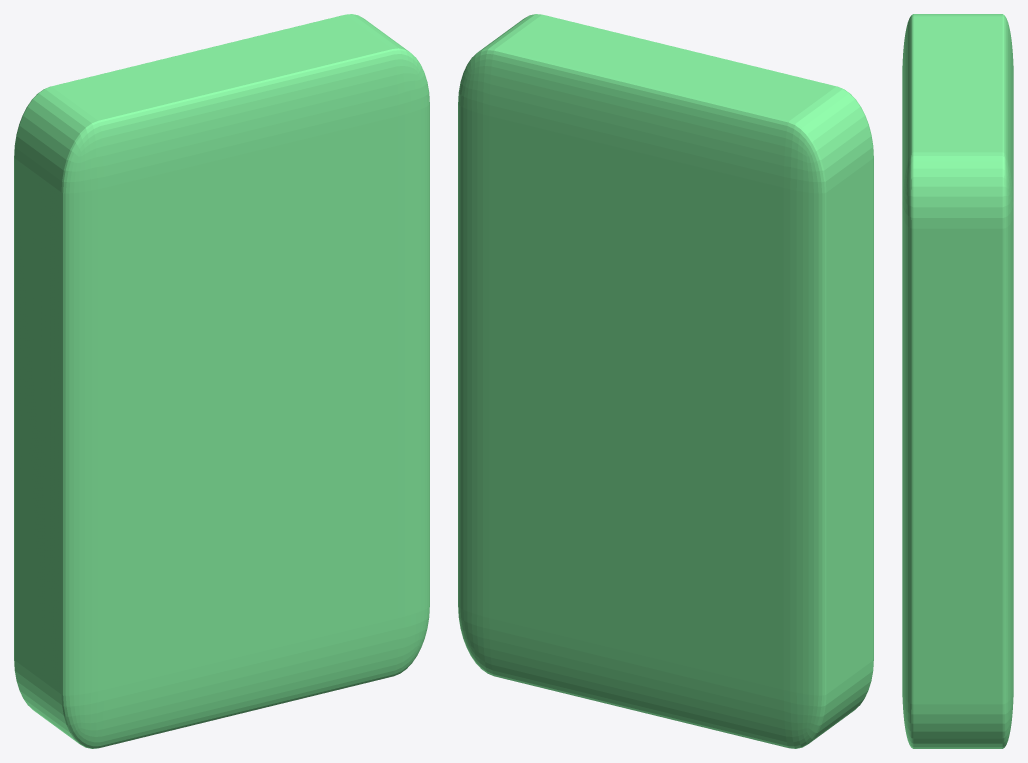
Rendered from round-square.glb.
3 renders of one model, left to right at view 1: azimuth 30°, elevation 25°; view 2: azimuth 150°, elevation 25°; view 3: azimuth 270°, elevation 25°, orthographic. The views are drawn at different scales.
Visible parts, largest first — view 1: Cube; view 2: Cube; view 3: Cube.
Part boxes in pixels (x1,y1,x2,y2): Cube: [14, 14, 429, 748]; Cube: [458, 14, 873, 748]; Cube: [902, 14, 1013, 748].
Size of the model in its own units: 1.28 by 2.09 by 0.3539.
